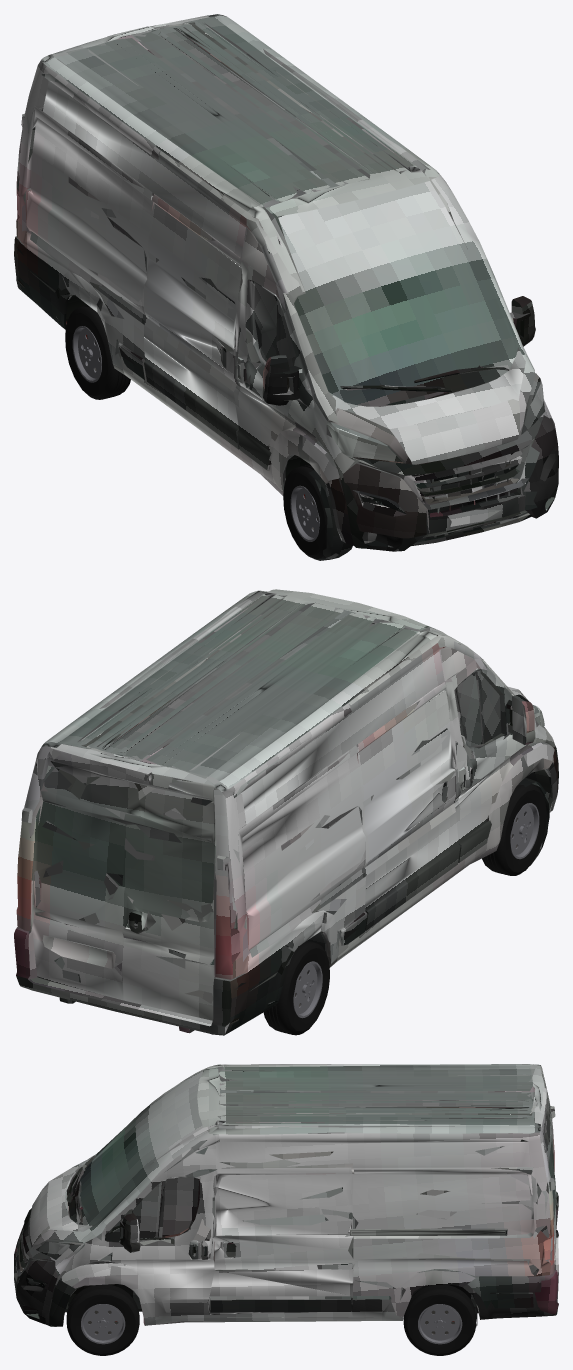
The model's file is transporter_m.glb.
The picture shows the model from 3 angles, top to bottom: view 1: azimuth 30°, elevation 25°; view 2: azimuth 150°, elevation 25°; view 3: azimuth 270°, elevation 25°; orthographic projection. The views are drawn at different scales.
Visible parts, largest first — view 1: karosserie, rad_hr, rad_vr; view 2: karosserie, rad_hr, rad_vr; view 3: karosserie, rad_vl, rad_hl.
Part boxes in pixels (bbox=[...]): karosserie: bbox=[14, 14, 558, 560]; rad_hr: bbox=[65, 305, 130, 399]; rad_vr: bbox=[283, 464, 327, 558]; karosserie: bbox=[14, 589, 558, 1035]; rad_hr: bbox=[263, 940, 329, 1035]; rad_vr: bbox=[482, 784, 546, 875]; karosserie: bbox=[14, 1064, 558, 1326]; rad_vl: bbox=[66, 1284, 139, 1355]; rad_hl: bbox=[403, 1285, 476, 1355].
Size of the model in its own units: 2.64 by 2.69 by 5.99.
3 materials, 1 textured.
